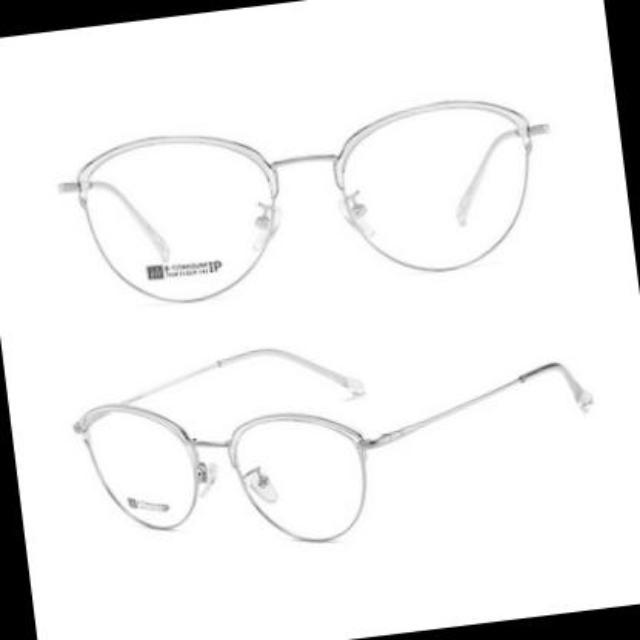glasses: (75, 347, 598, 545), (63, 100, 542, 298)
